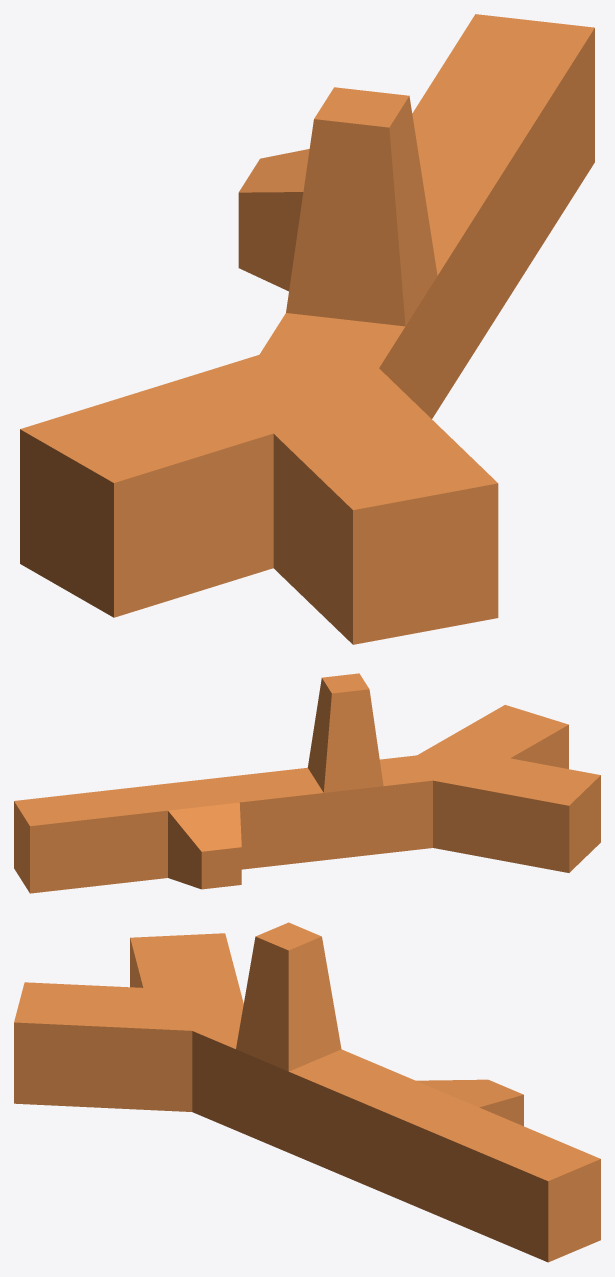
The model's file is twig.glb.
3 views of the same model, one above another, from view 1: azimuth 30°, elevation 25°; view 2: azimuth 150°, elevation 25°; view 3: azimuth 270°, elevation 25° (orthographic). The views are drawn at different scales.
Visible parts, largest first — view 1: resourceWood; view 2: resourceWood; view 3: resourceWood.
Part boxes in pixels (x1,y1,x2,y2): resourceWood: (20,14,594,644); resourceWood: (14,673,600,893); resourceWood: (14,922,600,1262).
Size of the model in its own units: 0.1711 by 0.0624 by 0.1711.
